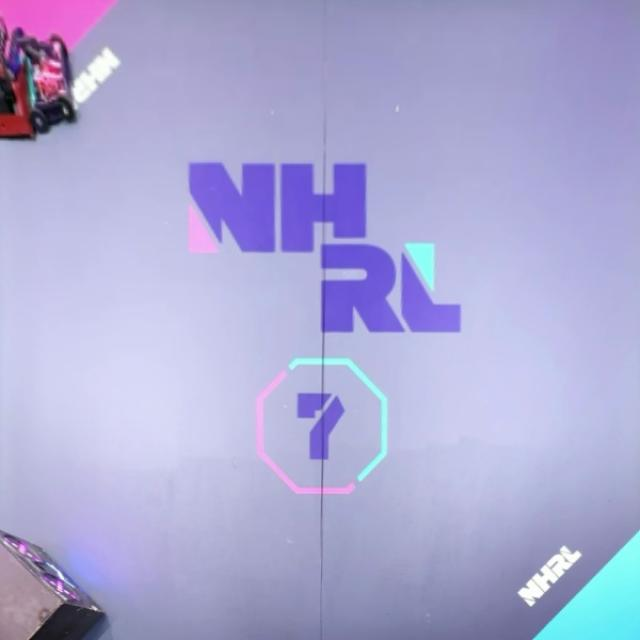housebot: (0, 528, 108, 640)
robot: (17, 33, 78, 134), (0, 19, 36, 141)
